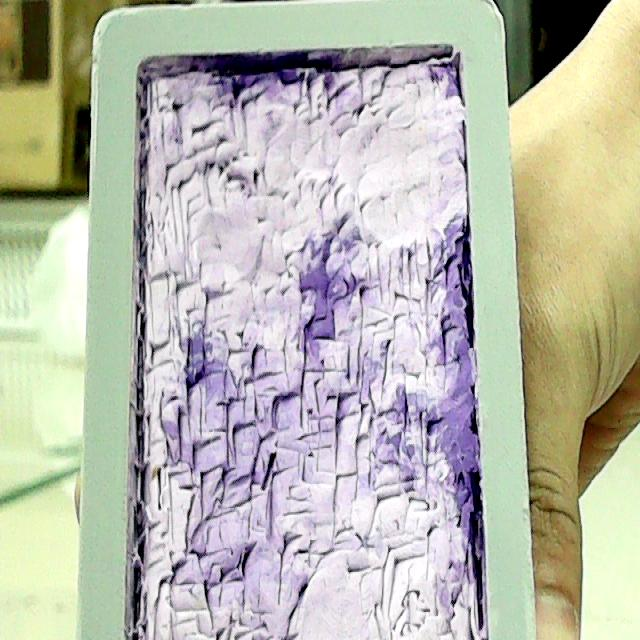block: (72, 0, 540, 640)
